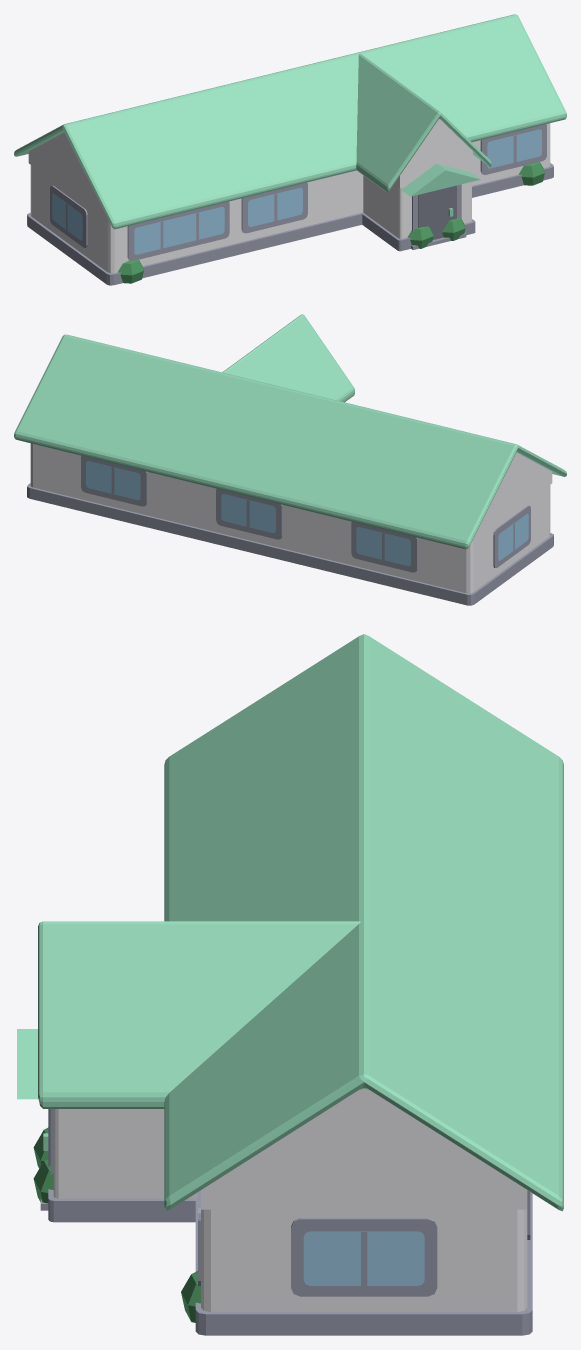
Rendered from house-2x1-1f-tone-a.glb.
The picture shows the model from 3 angles, top to bottom: view 1: azimuth 30°, elevation 25°; view 2: azimuth 150°, elevation 25°; view 3: azimuth 270°, elevation 25°; orthographic projection. The views are drawn at different scales.
Parts seen in each view (by area): view 1: house-2x1-1f-tone-a; view 2: house-2x1-1f-tone-a; view 3: house-2x1-1f-tone-a.
Boxes of the visible parts, x1,y1,x2,y2 form: house-2x1-1f-tone-a: (14,14,566,285); house-2x1-1f-tone-a: (14,314,566,605); house-2x1-1f-tone-a: (17,634,563,1335).
Bounding box in the file's own units: 2 × 0.5522 × 1.04.
Materials: 1 (1 with a texture image).
